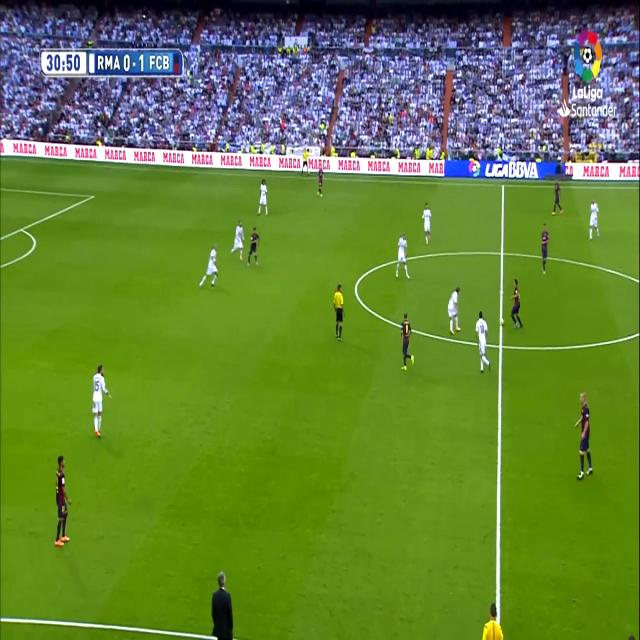halfcircle_bottom: (496, 334, 506, 358)
halfcircle_top: (497, 240, 507, 263)
midline_top_intersection: (499, 179, 506, 193)
top_arc_area_intersection: (19, 221, 26, 235)
